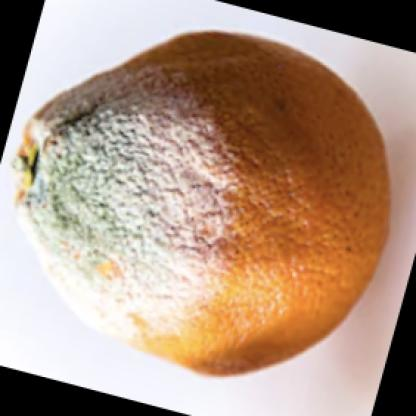rotten: (14, 32, 393, 382)
